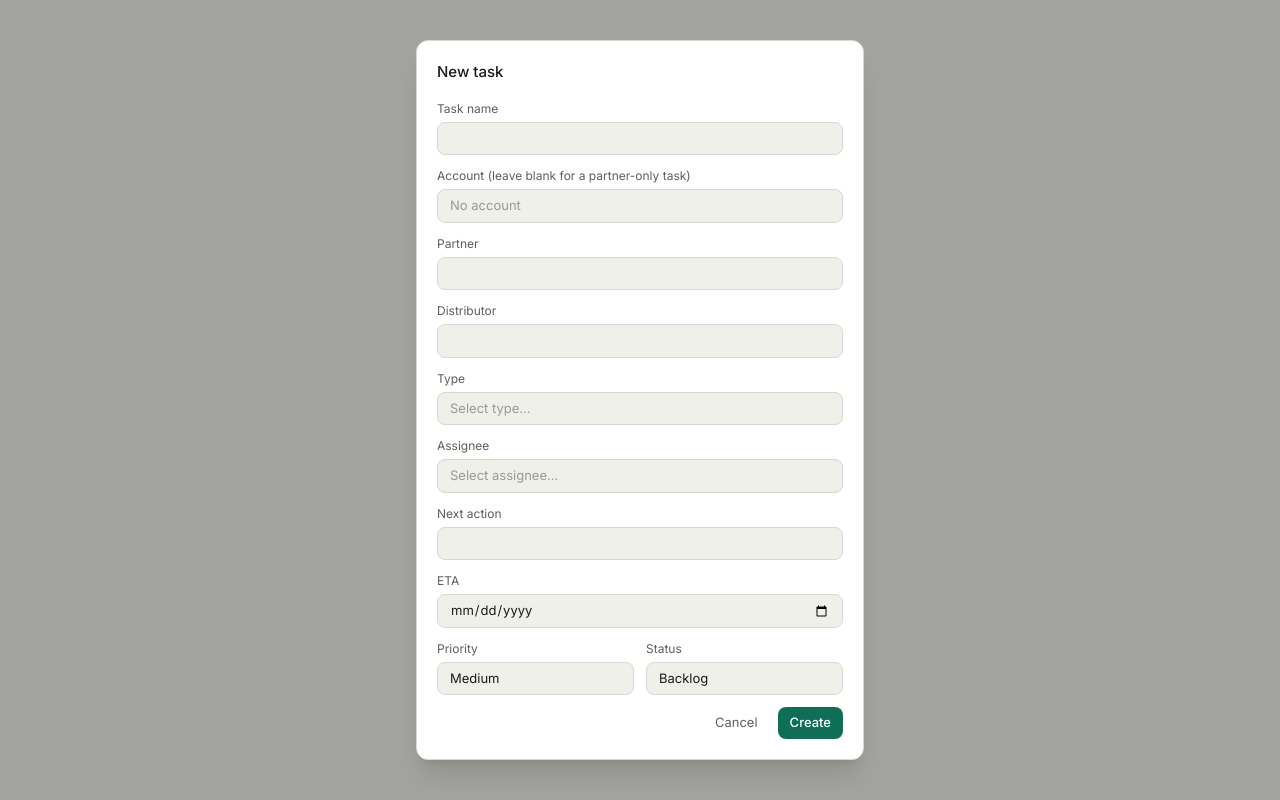
NewTaskModal › excludes deactivated task types from the type dropdown
Click the button "Select type…".
click(490, 408)  # box [437, 392, 843, 425]
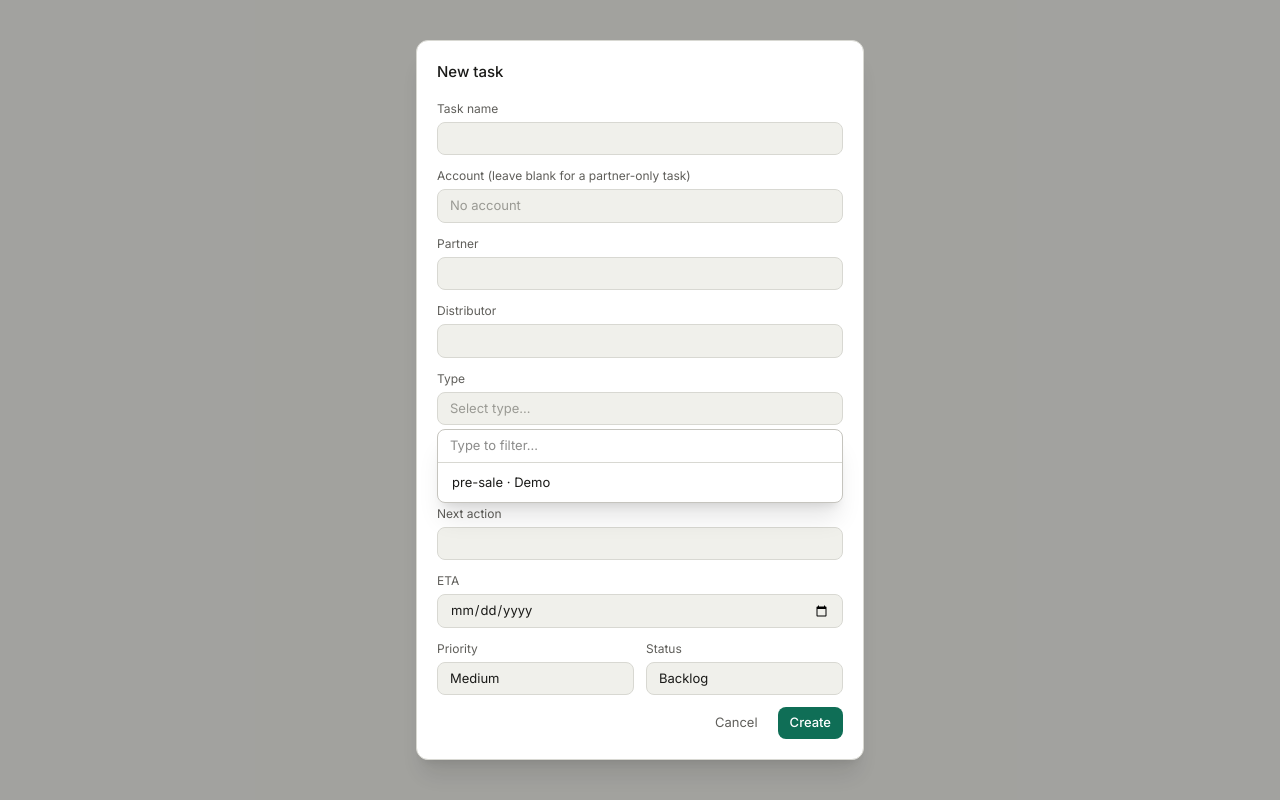
Now the button "pre-sale · Demo" is shown, box [442, 467, 838, 498]
